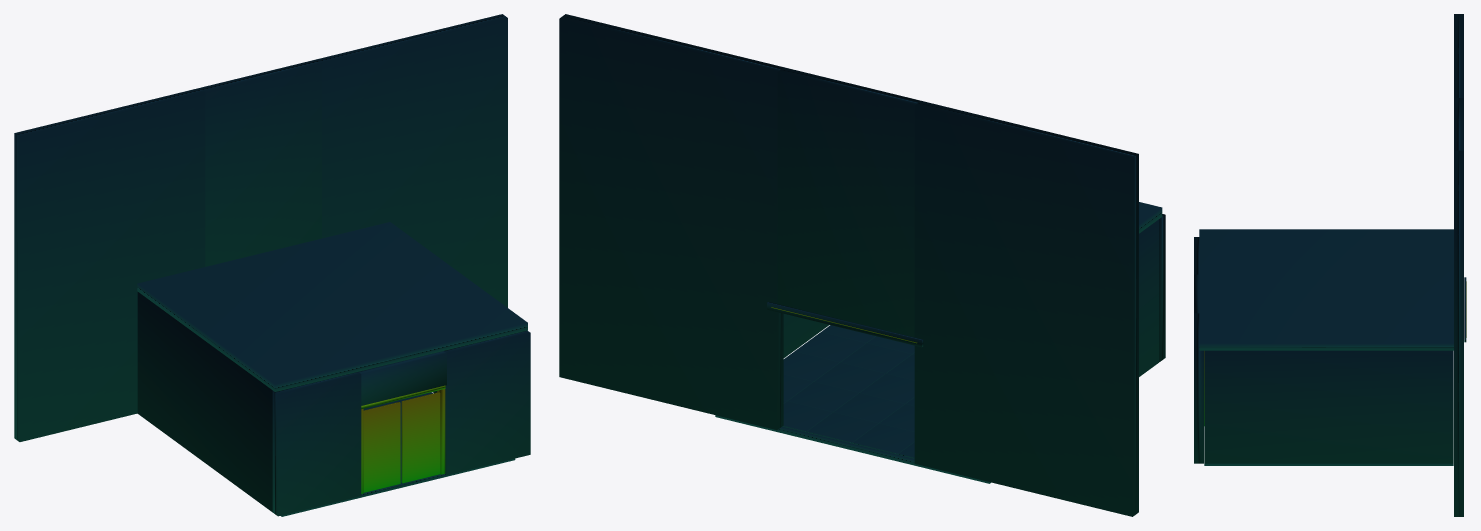
Rendered from sanctum_vestibule.glb.
The picture shows the model from 3 angles, left to right: view 1: azimuth 30°, elevation 25°; view 2: azimuth 150°, elevation 25°; view 3: azimuth 270°, elevation 25°; orthographic projection. The views are drawn at different scales.
Visible parts, largest first — view 1: sanctum_vestibule; view 2: sanctum_vestibule; view 3: sanctum_vestibule.
Part boxes in pixels (x1=…): sanctum_vestibule: x1=14, y1=14, x2=530, y2=516; sanctum_vestibule: x1=559, y1=14, x2=1165, y2=516; sanctum_vestibule: x1=1194, y1=14, x2=1466, y2=516.
Size of what is drawn, in the model's own units: 25.08 by 15.33 by 13.12.
